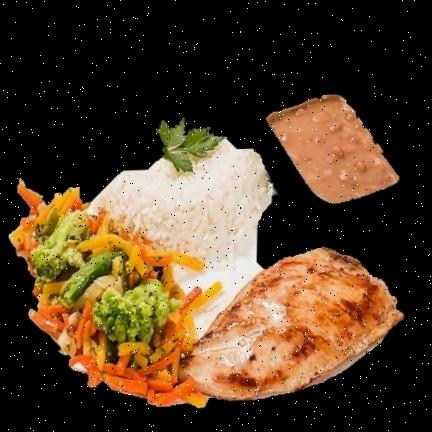beans: (260, 94, 399, 206)
broccoli: (24, 210, 186, 347)
carrot: (22, 189, 224, 406)
chicken: (167, 248, 401, 400)
rice: (89, 137, 275, 266)
